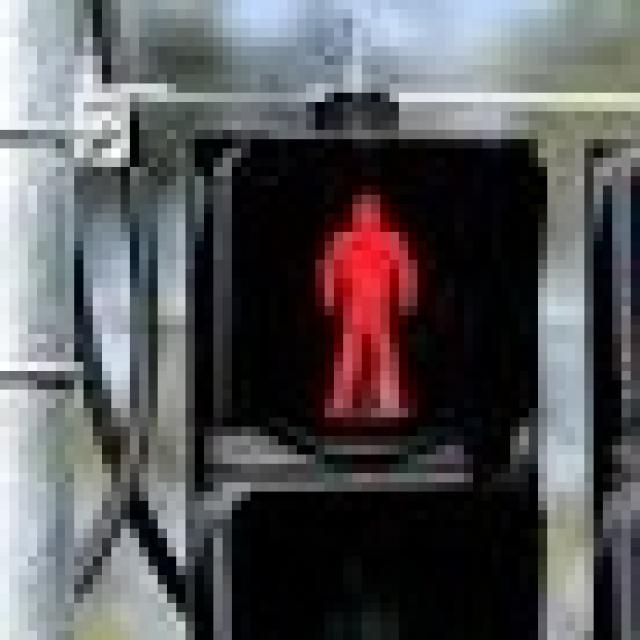red-crossing: (260, 130, 436, 427)
